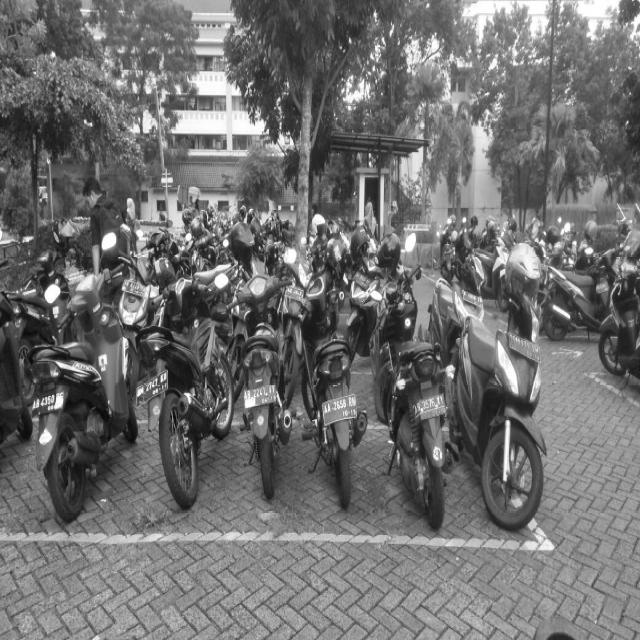license-plat: (322, 388, 360, 428)
